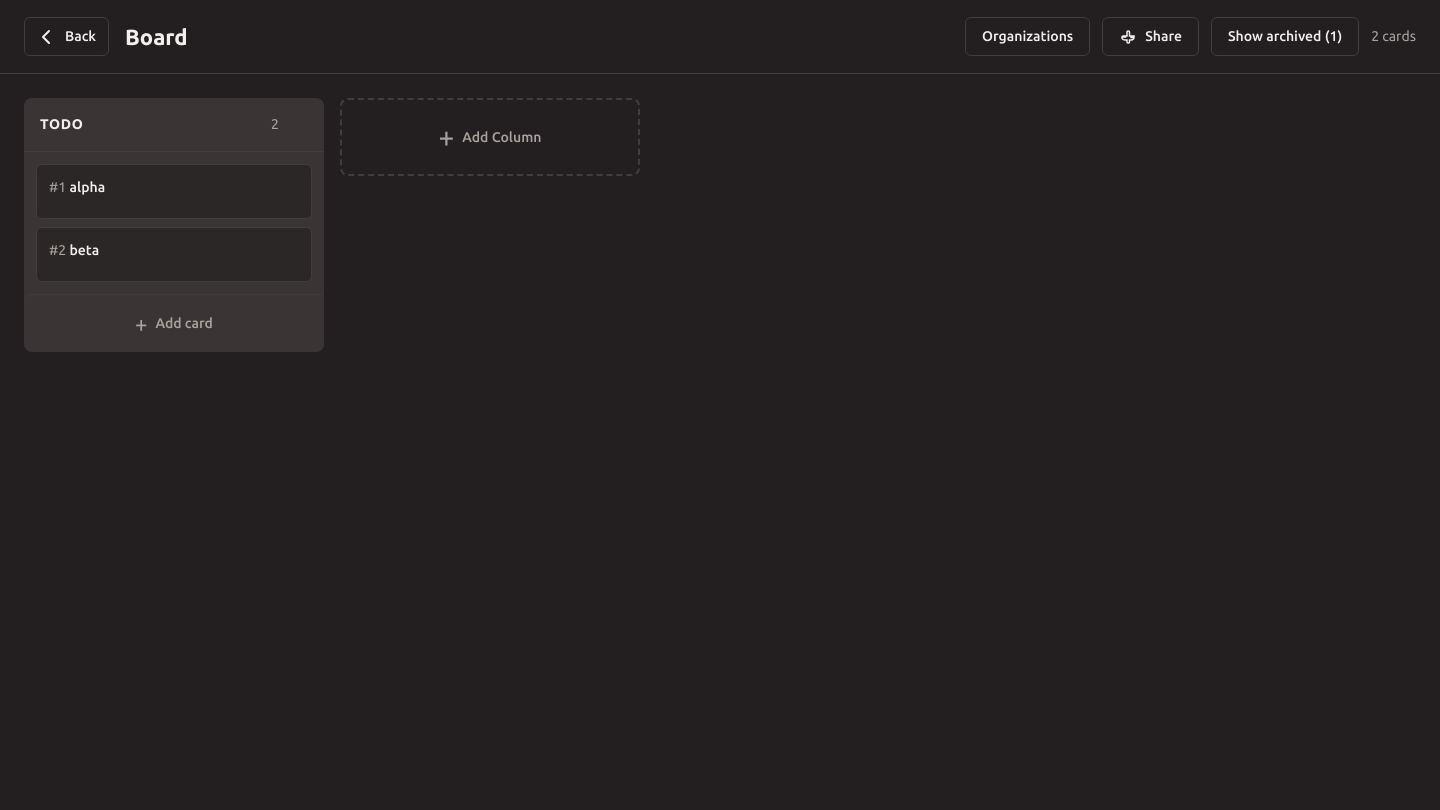
Test: archiving a card › takes it off the board and offers to show it
Expected: the button "Show archived (1)" is shown, [1211,17,1359,56]
What coordinates should you click on to do the following:
click the text "beta"
I would click on:
 (74, 250)
Its box is [49,240,99,261].
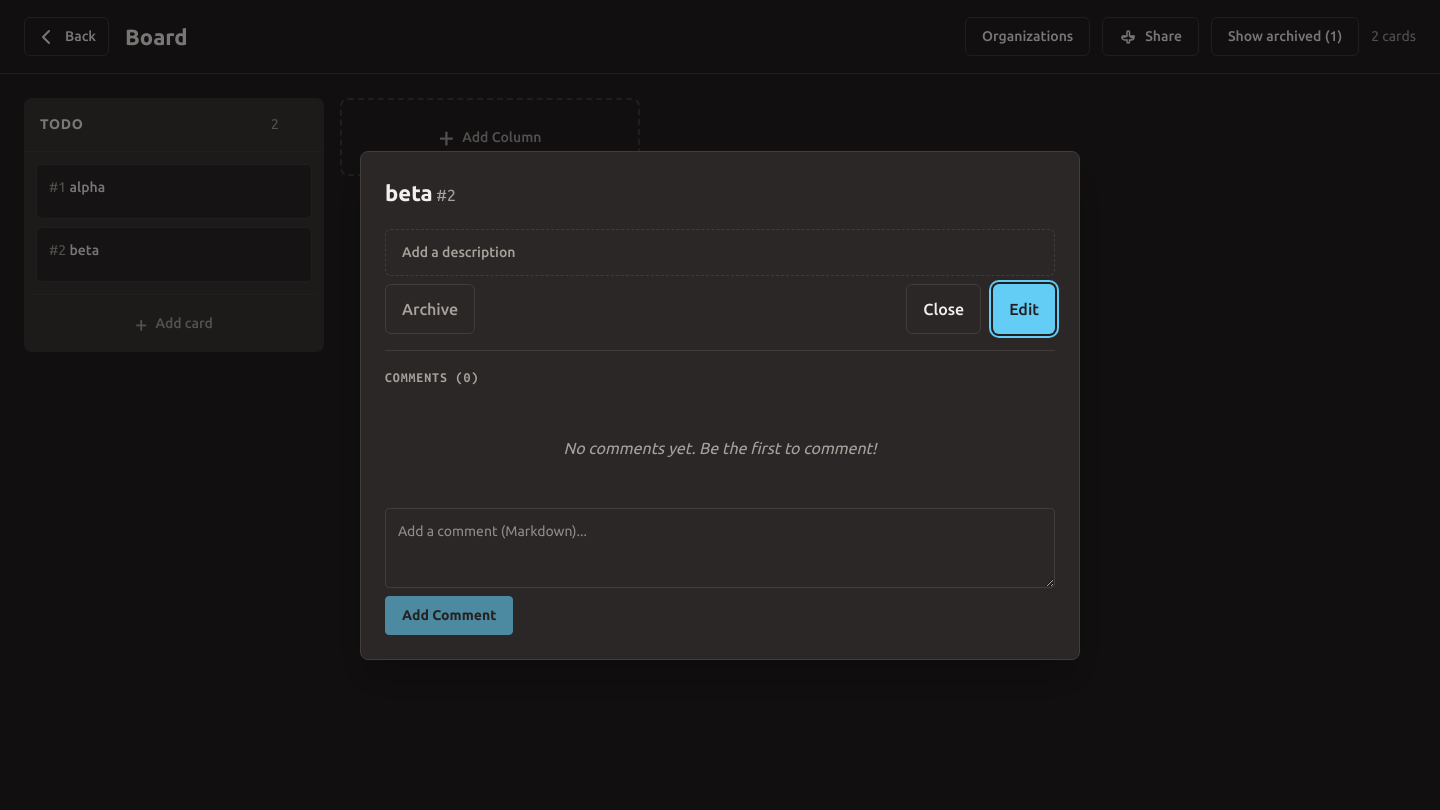
What coordinates should you click on to do the following:
click the button "Archive"
I would click on:
 (430, 308)
Its box is [385,284,475,334].
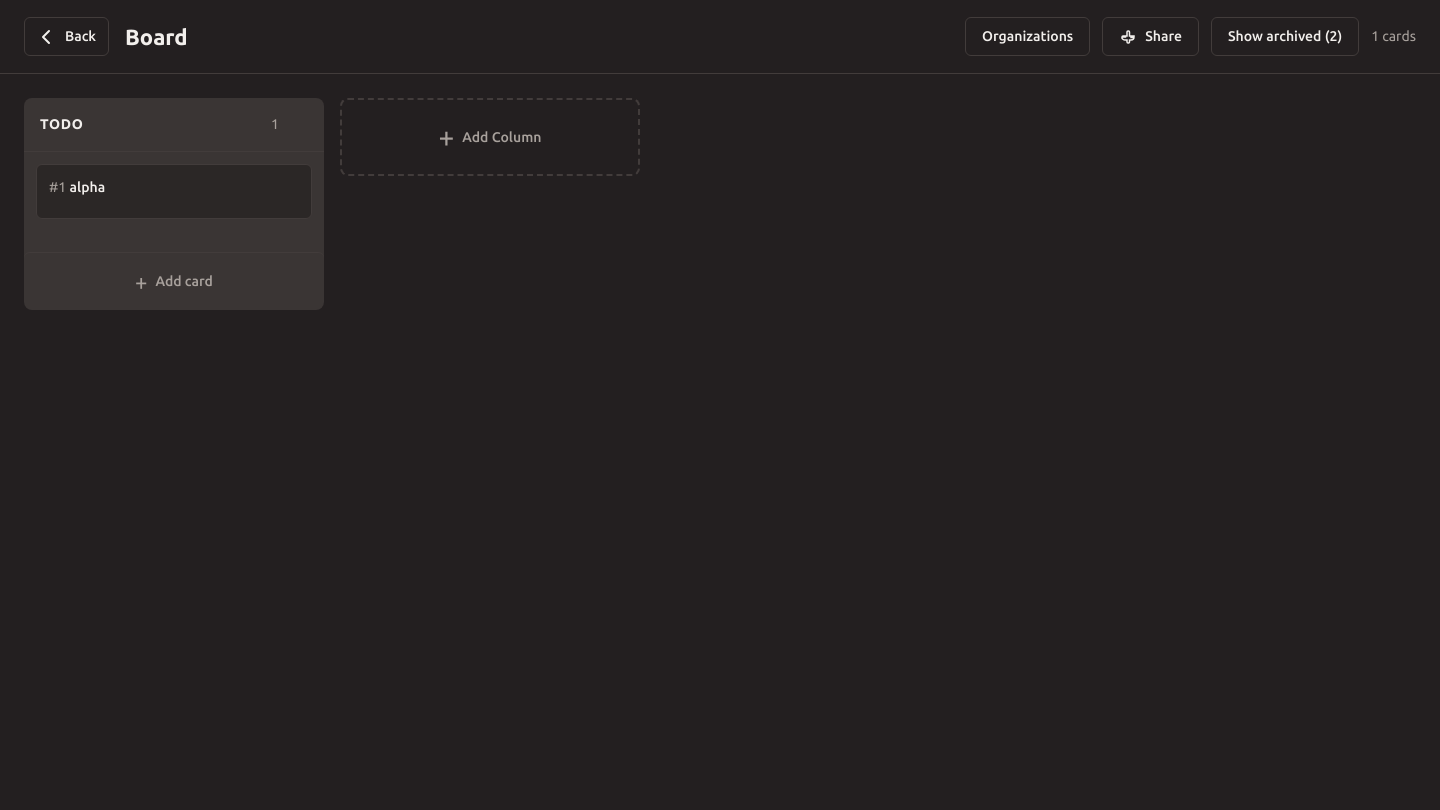
Result: the button "beta" is gone
Result: the button "Show archived (2)" is shown at [1211,17,1359,56]
Result: the text "1 cards" is shown at [1371,26,1416,47]
